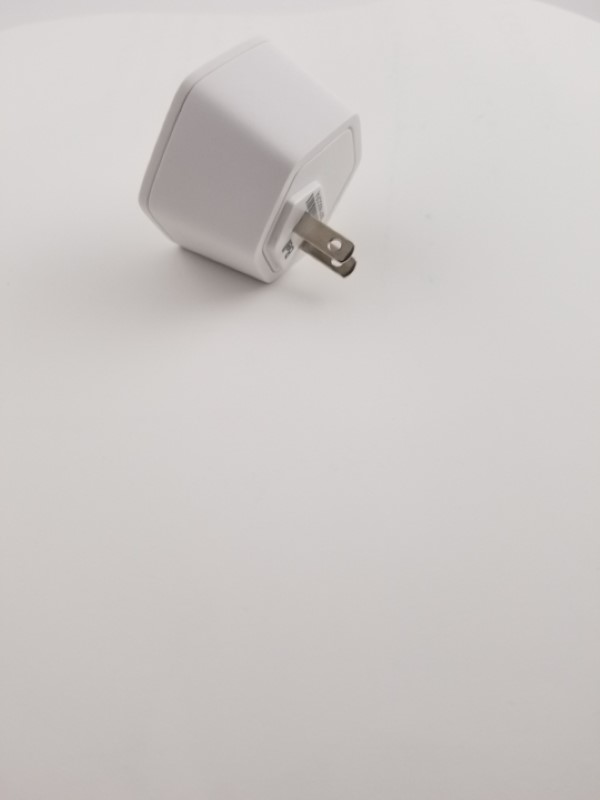pod: (134, 33, 377, 299)
